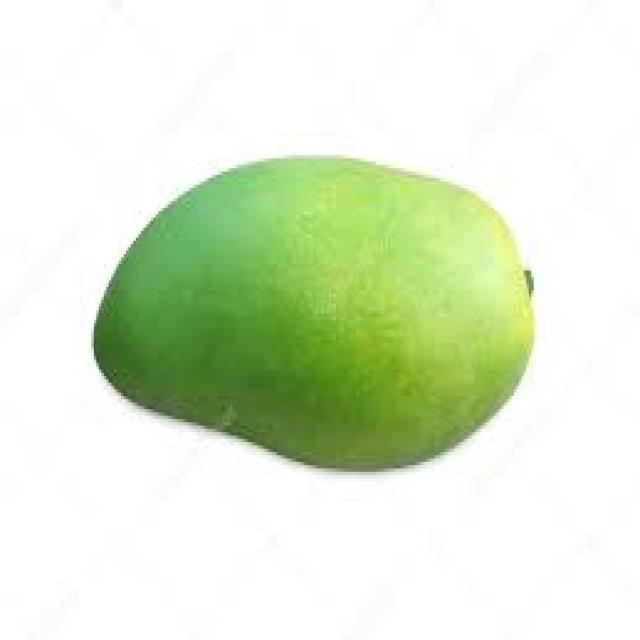organic waste: (91, 155, 532, 469)
